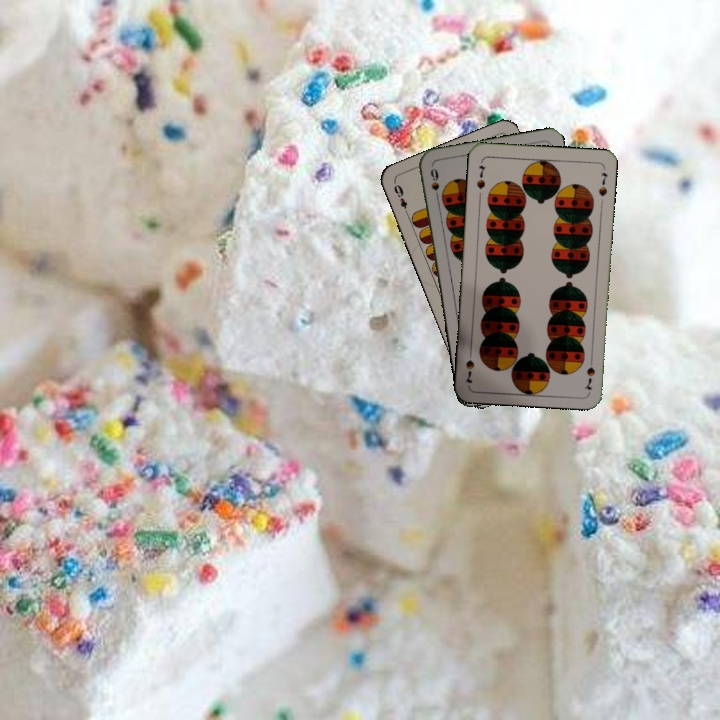E9: (390, 179, 412, 218)
S7: (581, 353, 597, 393), (472, 161, 488, 191)
S9: (426, 164, 442, 204)
